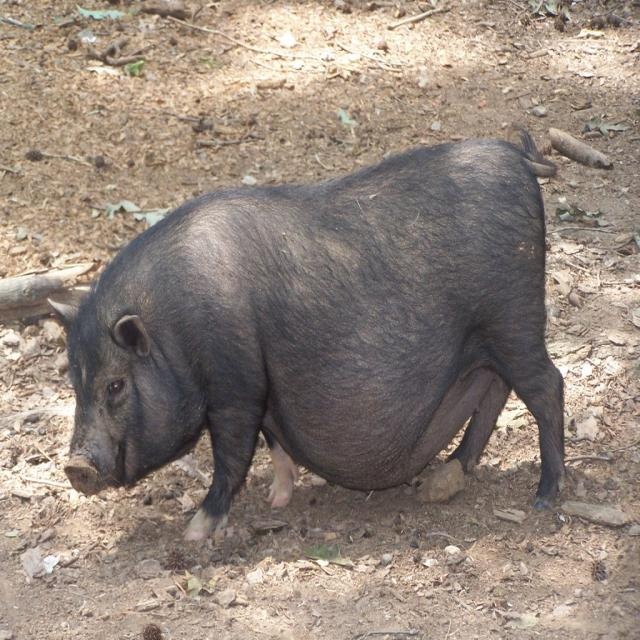Pig: (48, 124, 566, 541)
